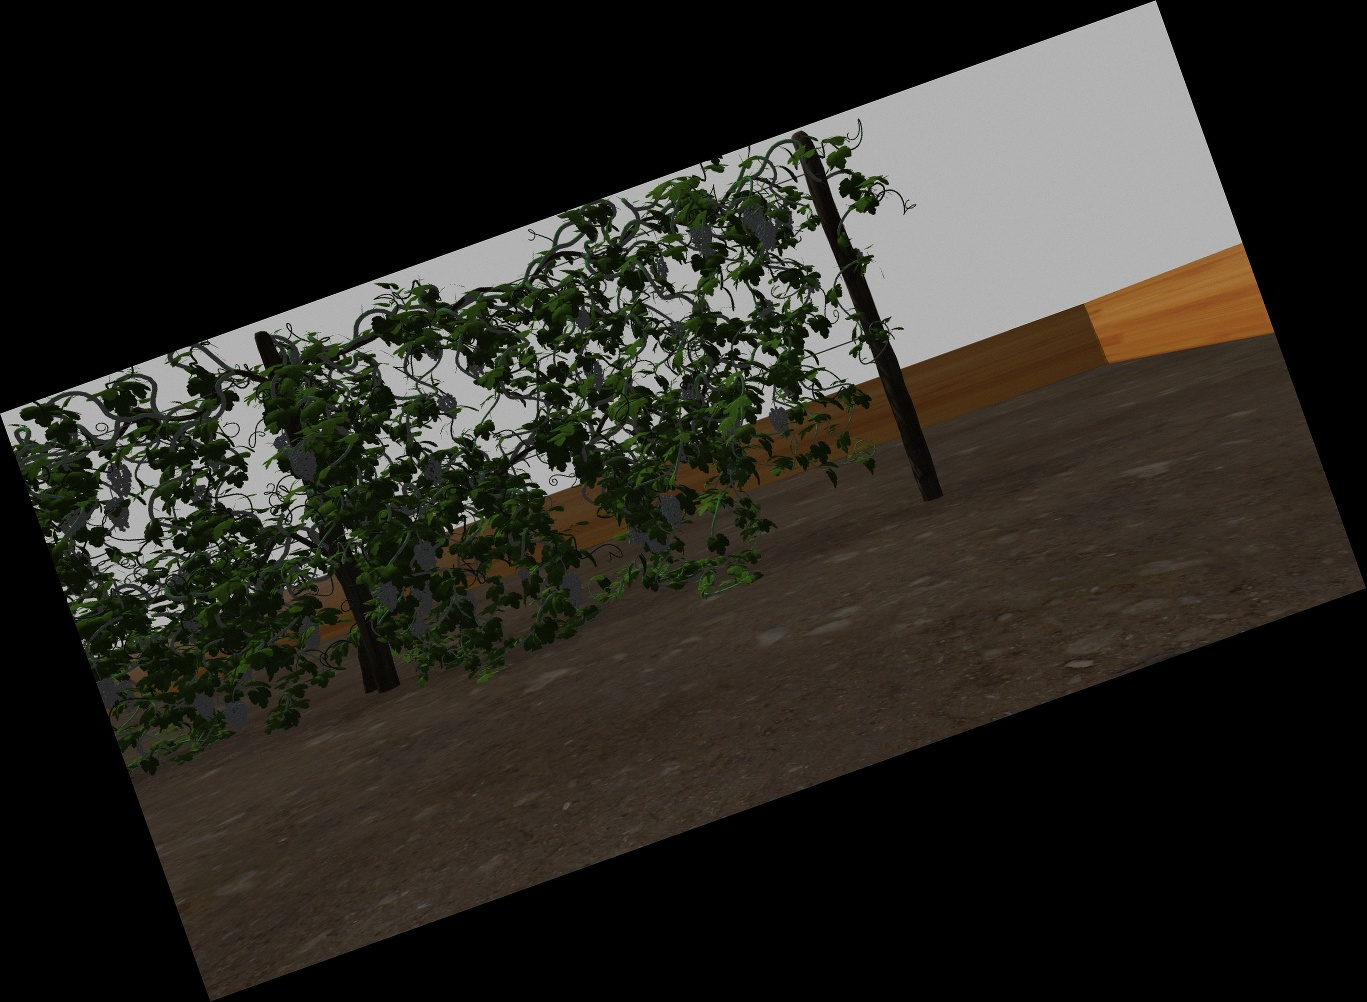grape: (292, 447, 319, 482), (661, 493, 683, 530), (109, 461, 132, 498), (107, 499, 134, 530), (226, 699, 250, 731), (563, 572, 584, 608), (691, 221, 712, 256), (300, 617, 322, 649), (414, 583, 434, 616), (378, 582, 399, 612), (195, 693, 218, 722), (59, 509, 88, 532), (757, 221, 778, 250), (422, 455, 443, 485), (742, 202, 764, 228), (416, 542, 437, 569), (771, 407, 789, 436), (438, 392, 458, 417), (647, 532, 669, 555), (101, 678, 118, 707), (120, 683, 137, 711), (651, 259, 669, 283), (682, 382, 702, 403), (629, 525, 645, 546), (576, 310, 592, 330), (409, 621, 426, 635)
